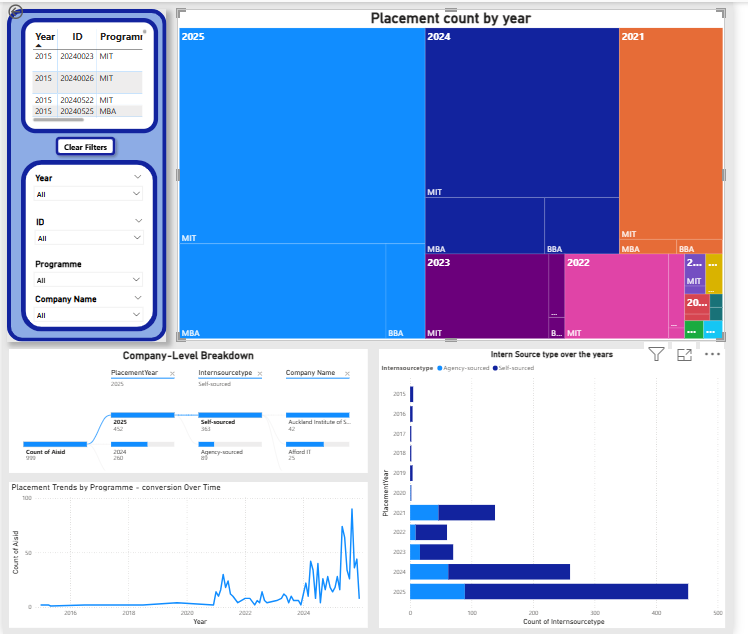

The dashboard page shown, as its layout file describes it:
{"tool":"powerbi","page":{"name":"Internship Data Visualisation","canvas":[1280,1300],"ordinal":0},"visuals":[{"type":"group","id":"g1","title":"Filter Slicer","box":[8.9,13.5,328,684],"z":0},{"type":"shape","title":"BG SlicerPanel","box":[8.9,13.5,328,684],"z":0,"group":"g1"},{"type":"slicer","title":"Program","fields":{"Values":["TargetTable.Progcode"]},"box":[54.2,521.3,244.3,74.3],"z":0,"group":"g2"},{"type":"shape","title":"Slicer Shape","box":[37.6,324.3,280.8,352.8],"z":1000,"group":"g1"},{"type":"slicer","title":"AIS ID","fields":{"Values":["TargetTable.Aisid"]},"box":[55.5,435.3,244.3,74.3],"z":1000,"group":"g2"},{"type":"slicer","title":"Program","fields":{"Values":["TargetTable.Company Name"]},"box":[53.4,594.7,244.8,74.1],"z":1000},{"type":"treemap","title":"Placement count by year","fields":{"Group":["TargetTable.PlacementYear"],"Values":["CountNonNull(TargetTable.Progcode)"],"Details":["TargetTable.Progcode"]},"box":[358.2,14,905,684],"z":2000},{"type":"slicer","title":"Year","fields":{"Values":["TargetTable.PlacementYear"]},"box":[54.1,343.9,244.5,79.7],"z":2000,"group":"g2"},{"type":"decompositionTreeVisual","title":"Company-Level Breakdown","fields":{"ExplainBy":["TargetTable.PlacementStartYear","TargetTable.Internsourcetype","TargetTable.Company Name"],"Analyze":["CountNonNull(TargetTable.Aisid)"]},"box":[12.3,713.8,571.8,255.1],"z":3000},{"type":"barChart","title":"Intern Source type over the years","fields":{"Category":["TargetTable.PlacementStartYear"],"Series":["TargetTable.Internsourcetype"],"Y":["CountNonNull(TargetTable.Internsourcetype)"]},"box":[604.5,713.3,658.3,573.3],"z":4000},{"type":"group","id":"g2","title":"Year | Owner | Region Slicer","box":[54.1,343.9,245.7,251.7],"z":5000,"group":"g1"},{"type":"lineChart","title":"Placement Trends by Programme - conversion Over Time","fields":{"Y":["CountNonNull(TargetTable.Aisid)"],"Category":["TargetTable.Startdate.Variation.Date Hierarchy.Year","TargetTable.Startdate.Variation.Date Hierarchy.Quarter","TargetTable.Startdate.Variation.Date Hierarchy.Month"]},"box":[12.8,988.3,571.7,298.3],"z":5000},{"type":"actionButton","title":"Clear Filter Btn","box":[98.9,267.5,142,58],"z":5500,"group":"g1"},{"type":"actionButton","box":[6.2,0,100,40],"z":6000},{"type":"tableEx","title":"Filter Table","fields":{"Values":["TargetTable.PlacementStartYear","TargetTable.Aisid","TargetTable.Progcode","TargetTable.Company Name"]},"box":[37.7,32,281.8,236.6],"z":6000,"group":"g1"}]}

Visuals, with their boxes on the page's 1280x1300 design canvas (x1, y1, x2, y2). These are canvas units, not pixel positions in the 748x634 screenshot, which may show the page scaled, cropped or inside an application window:
"Filter Slicer" group: [left=9, top=14, right=337, bottom=698]
"BG SlicerPanel" shape: [left=9, top=14, right=337, bottom=698]
"Program" slicer: [left=54, top=521, right=298, bottom=596]
"Slicer Shape" shape: [left=38, top=324, right=318, bottom=677]
"AIS ID" slicer: [left=56, top=435, right=300, bottom=510]
"Program" slicer: [left=53, top=595, right=298, bottom=669]
"Placement count by year" treemap: [left=358, top=14, right=1263, bottom=698]
"Year" slicer: [left=54, top=344, right=299, bottom=424]
"Company-Level Breakdown" decompositionTreeVisual: [left=12, top=714, right=584, bottom=969]
"Intern Source type over the years" barChart: [left=604, top=713, right=1263, bottom=1287]
"Year | Owner | Region Slicer" group: [left=54, top=344, right=300, bottom=596]
"Placement Trends by Programme - conversion Over Time" lineChart: [left=13, top=988, right=584, bottom=1287]
"Clear Filter Btn" actionButton: [left=99, top=268, right=241, bottom=326]
actionButton: [left=6, top=0, right=106, bottom=40]
"Filter Table" tableEx: [left=38, top=32, right=320, bottom=269]
